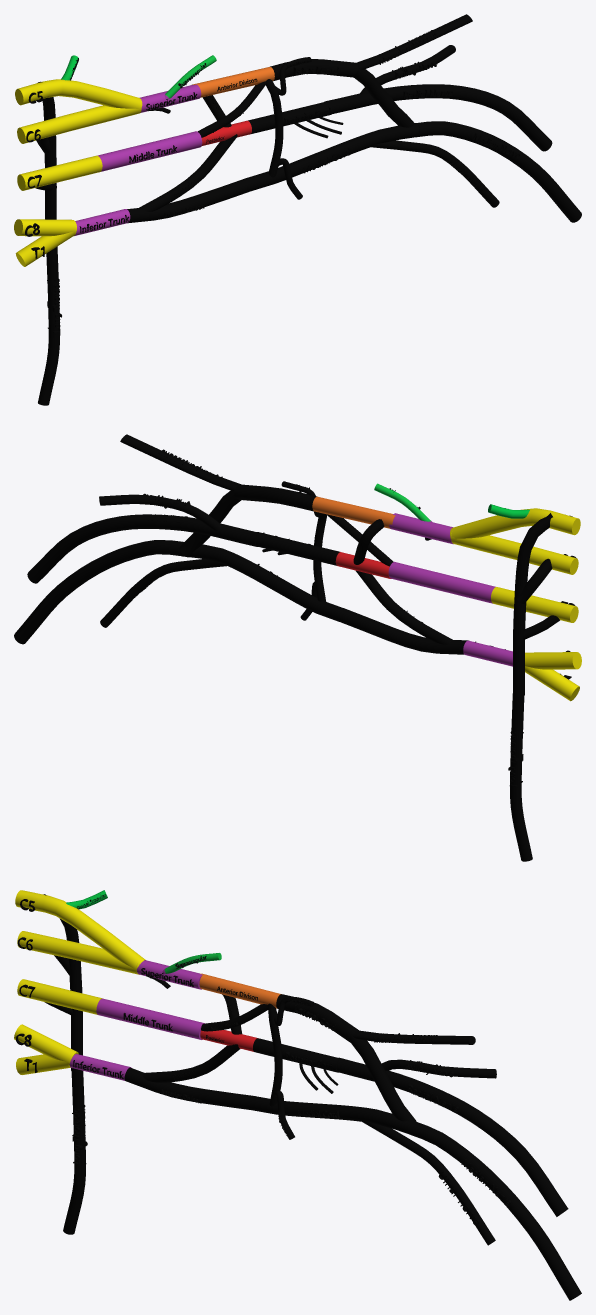
The model's file is next_try-_brachial_plexus.glb.
The picture shows the model from 3 angles, top to bottom: view 1: azimuth 30°, elevation 25°; view 2: azimuth 150°, elevation 25°; view 3: azimuth 330°, elevation 25°; orthographic projection. The views are drawn at different scales.
Visible parts, largest first — view 1: Object_45, Object_57, Object_49, Object_27, Object_25, Object_35, Object_19, Object_55, Object_21, Object_37, Object_59, Object_9 (+13 smaller); view 2: Object_45, Object_57, Object_49, Object_29, Object_27, Object_35, Object_19, Object_55, Object_25, Object_59, Object_21, Object_37 (+15 smaller); view 3: Object_45, Object_57, Object_27, Object_49, Object_35, Object_25, Object_19, Object_55, Object_59, Object_53, Object_21, Object_9 (+13 smaller).
Part boxes in pixels (left/top/right/bottom): Object_45: left=324, top=84, right=552, bottom=151; Object_57: left=416, top=121, right=581, bottom=222; Object_49: left=248, top=123, right=419, bottom=190; Object_27: left=15, top=79, right=142, bottom=111; Object_25: left=17, top=103, right=141, bottom=143; Object_35: left=38, top=246, right=60, bottom=405; Object_19: left=97, top=131, right=202, bottom=171; Object_55: left=127, top=177, right=253, bottom=223; Object_21: left=17, top=155, right=102, bottom=190; Object_37: left=139, top=134, right=237, bottom=211; Object_59: left=371, top=140, right=499, bottom=207; Object_9: left=192, top=67, right=274, bottom=97; Object_45: left=27, top=514, right=257, bottom=583; Object_57: left=14, top=540, right=183, bottom=644; Object_49: left=179, top=542, right=342, bottom=621; Object_29: left=513, top=513, right=552, bottom=696; Object_27: left=450, top=508, right=580, bottom=542; Object_35: left=509, top=693, right=532, bottom=861; Object_19: left=388, top=561, right=495, bottom=603; Object_55: left=338, top=608, right=468, bottom=654; Object_25: left=450, top=533, right=578, bottom=574; Object_59: left=100, top=559, right=226, bottom=627; Object_21: left=491, top=587, right=578, bottom=622; Object_37: left=356, top=570, right=452, bottom=644; Object_45: left=336, top=1057, right=568, bottom=1216; Object_57: left=408, top=1121, right=581, bottom=1300; Object_27: left=15, top=890, right=145, bottom=972; Object_49: left=250, top=1096, right=414, bottom=1133; Object_35: left=63, top=1070, right=86, bottom=1234; Object_25: left=17, top=931, right=139, bottom=974; Object_19: left=96, top=998, right=205, bottom=1039; Object_55: left=124, top=1067, right=255, bottom=1110; Object_59: left=361, top=1120, right=495, bottom=1245; Object_53: left=349, top=1036, right=416, bottom=1121; Object_21: left=17, top=979, right=102, bottom=1014; Object_9: left=199, top=973, right=281, bottom=1008.
Bounding box in the file's own units: 0.4531 × 0.2645 × 0.0416.
Materials: 61 (61 with a texture image).
